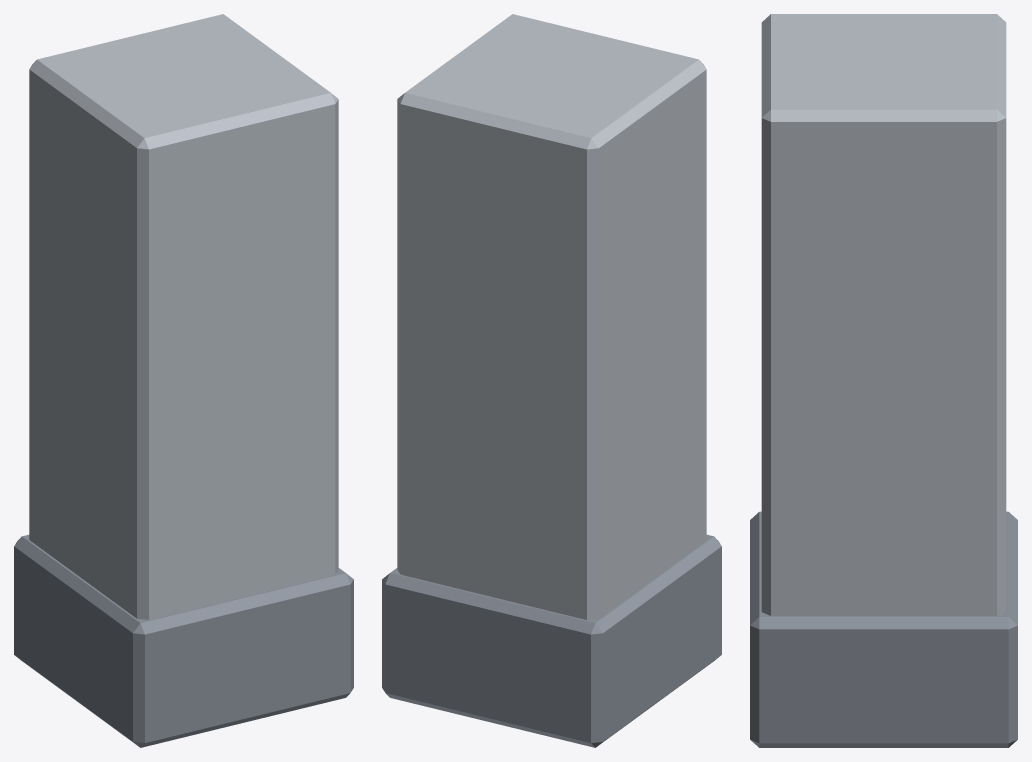
Rendered from soco_h30_canto.glb.
3 renders of one model, left to right at view 1: azimuth 30°, elevation 25°; view 2: azimuth 150°, elevation 25°; view 3: azimuth 270°, elevation 25°, orthographic. The views are drawn at different scales.
Parts seen in each view (by area): view 1: soco_h30_canto; view 2: soco_h30_canto; view 3: soco_h30_canto.
Boxes of the visible parts, <box> form: soco_h30_canto: <box>14,14,353,747</box>; soco_h30_canto: <box>382,14,721,747</box>; soco_h30_canto: <box>750,14,1017,747</box>.
Size of the model in its own units: 0.115 by 0.3 by 0.115.
1 material, 1 textured.
